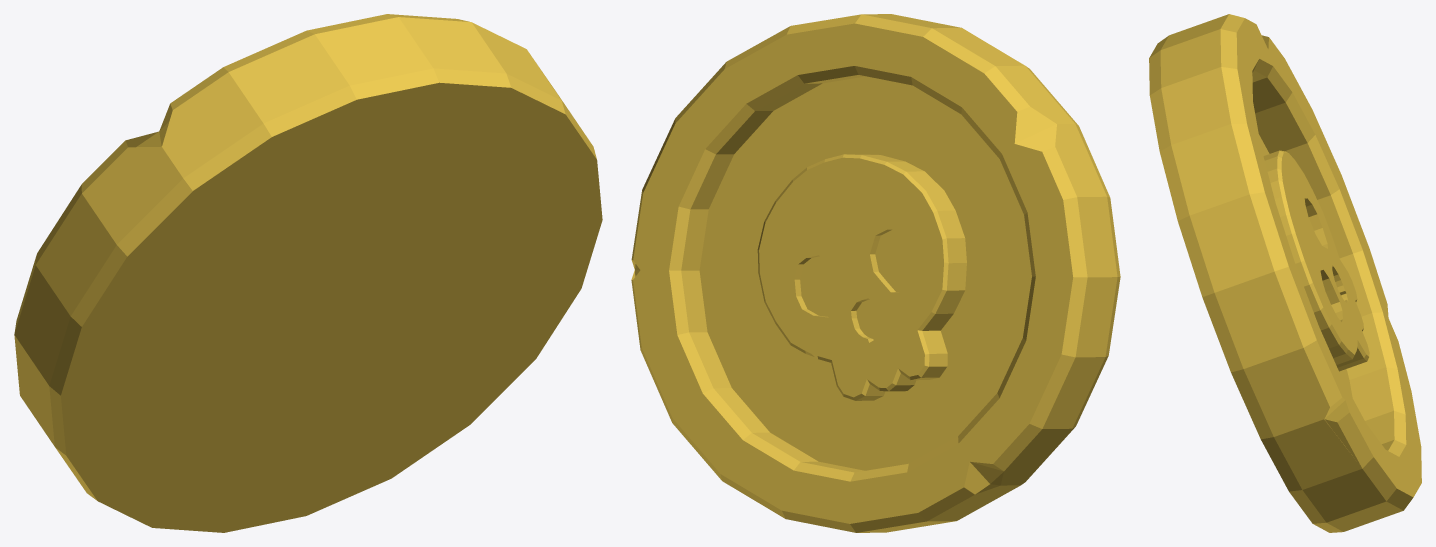
The model's file is Coin-428d50ef.glb.
3 renders of one model, left to right at view 1: azimuth 30°, elevation 25°; view 2: azimuth 150°, elevation 25°; view 3: azimuth 270°, elevation 25°, orthographic. The views are drawn at different scales.
Parts seen in each view (by area): view 1: skull coin reference.003; view 2: skull coin reference.003; view 3: skull coin reference.003.
Boxes of the visible parts, x1=… form: skull coin reference.003: x1=14, y1=14, x2=602, y2=532; skull coin reference.003: x1=631, y1=14, x2=1120, y2=532; skull coin reference.003: x1=1149, y1=14, x2=1421, y2=532.
Size of the model in its own units: 1.99 by 1.94 by 1.04.
